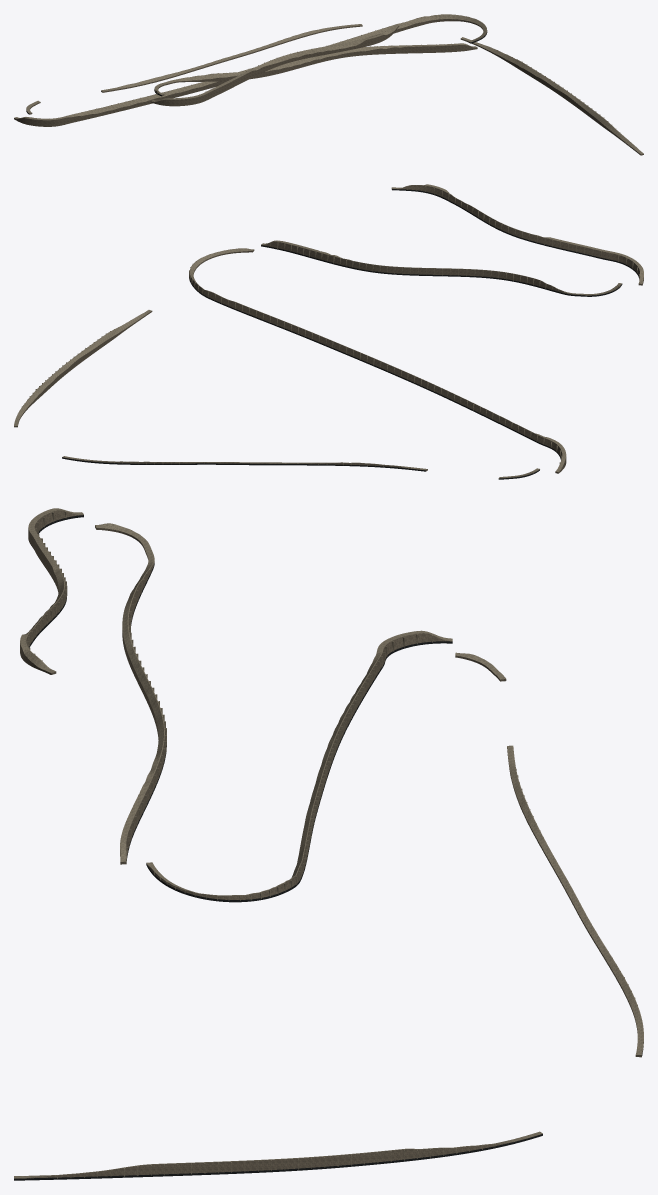
The model's file is Mountain_RetainingWalls.glb.
The picture shows the model from 3 angles, top to bottom: view 1: azimuth 30°, elevation 25°; view 2: azimuth 150°, elevation 25°; view 3: azimuth 270°, elevation 25°; orthographic projection. The views are drawn at different scales.
Visible parts, largest first — view 1: SM_Road_RetainingWalls; view 2: SM_Road_RetainingWalls; view 3: SM_Road_RetainingWalls.
Boxes of the visible parts, x1=… form: SM_Road_RetainingWalls: x1=14, y1=14, x2=643, y2=155; SM_Road_RetainingWalls: x1=14, y1=184, x2=643, y2=479; SM_Road_RetainingWalls: x1=14, y1=508, x2=643, y2=1180.
Bounding box in the file's own units: 961 × 331 × 601.
3 materials, 3 textured.
